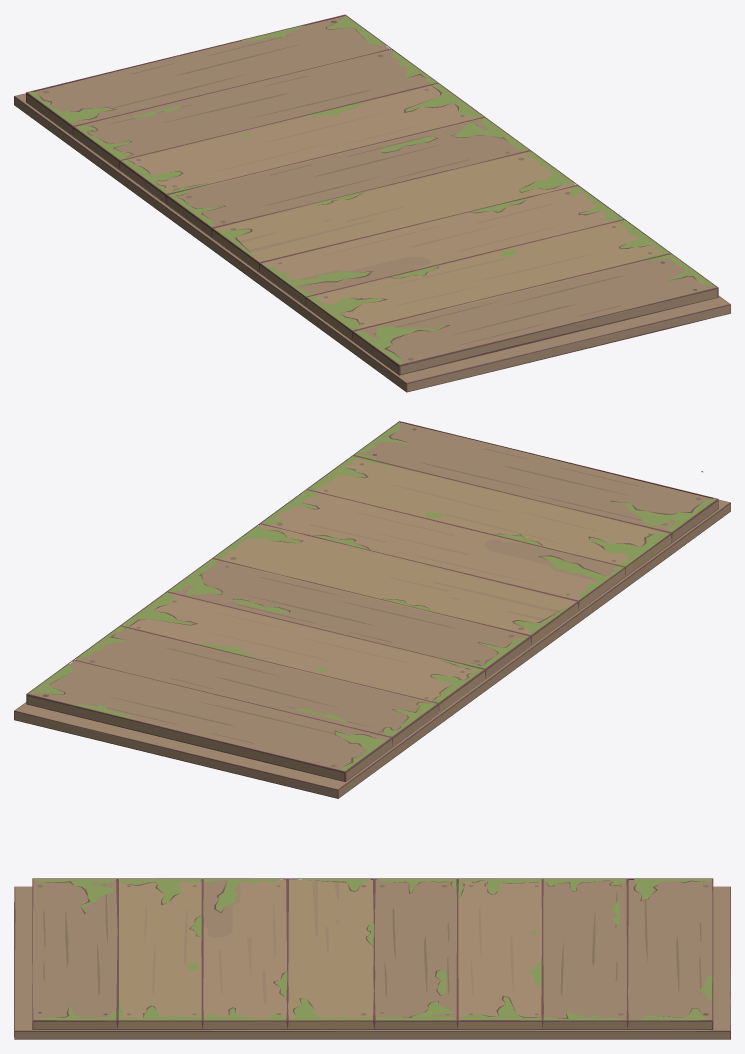
The model's file is Mesh_Adventure_Forest_Bridge_SM.fbx.
3 views of the same model, one above another, from view 1: azimuth 30°, elevation 25°; view 2: azimuth 150°, elevation 25°; view 3: azimuth 270°, elevation 25° (orthographic). The views are drawn at different scales.
Visible parts, largest first — view 1: Mesh_Adventure_Forest_Bridge; view 2: Mesh_Adventure_Forest_Bridge; view 3: Mesh_Adventure_Forest_Bridge.
Boxes of the visible parts, box(x1,y1,x2,y2) form: Mesh_Adventure_Forest_Bridge: box(14, 14, 730, 392); Mesh_Adventure_Forest_Bridge: box(14, 421, 730, 798); Mesh_Adventure_Forest_Bridge: box(14, 878, 730, 1039).
Size of the model in its own units: 172 by 34.38 by 350.
